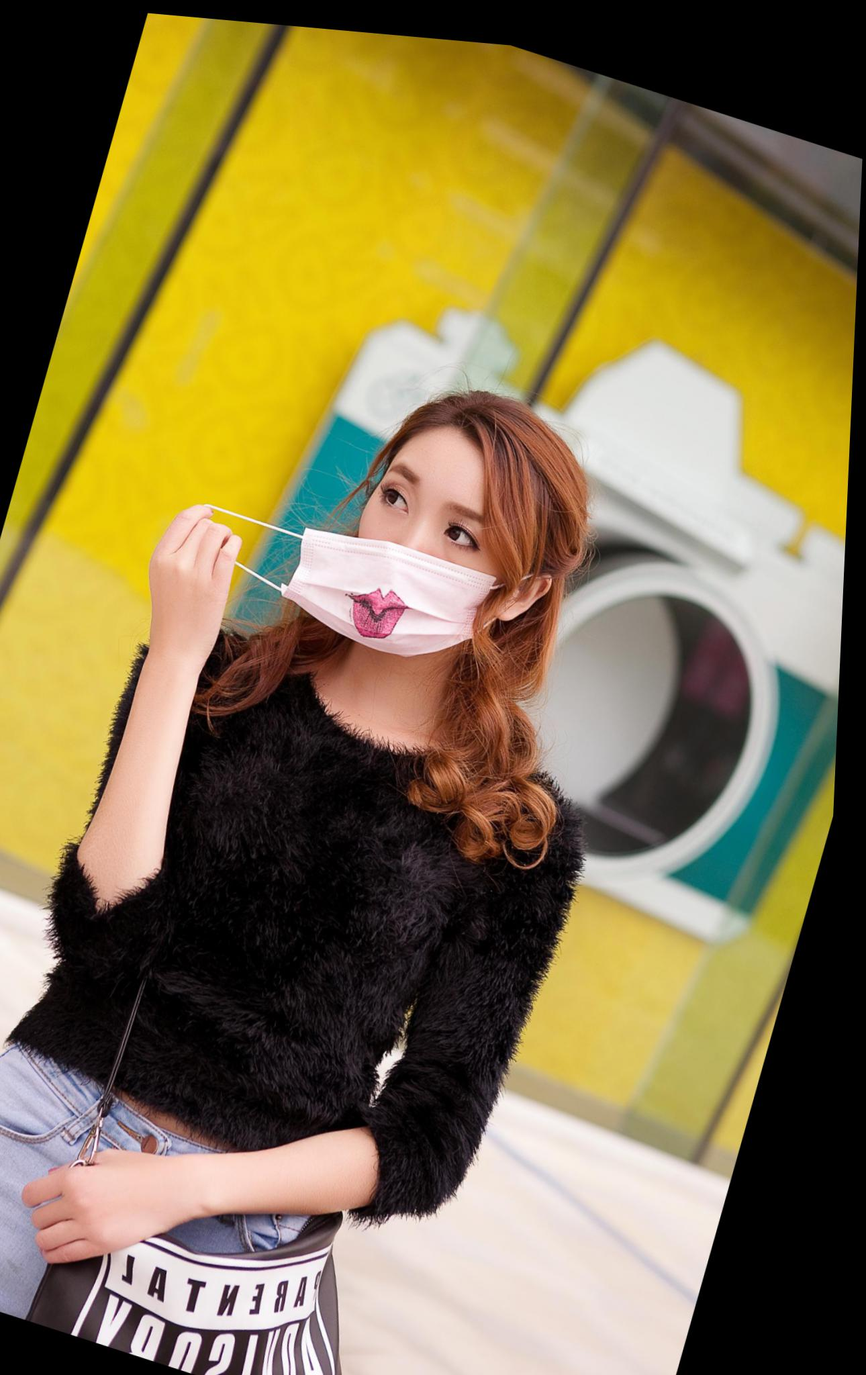WRONG: (318, 432, 557, 680)
